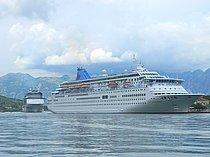Ship: (47, 65, 206, 119)
